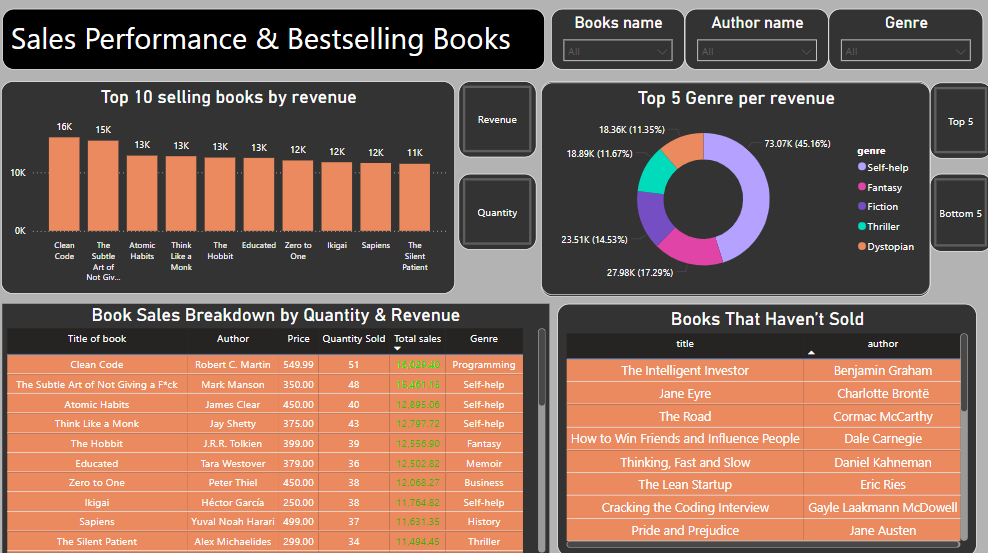

Layout of this report page (visuals, bound fields, positions):
{"tool":"powerbi","page":{"name":"Page 2","canvas":[1280,720],"ordinal":1},"visuals":[{"type":"textbox","box":[20.8,24.6,690.3,77.5],"z":0},{"type":"tableEx","title":"Book Sales Breakdown by Quantity & Revenue","fields":{"Values":["Books.title","Books.author","Sum(Books.price)","Sum(Sales.quantity)","Sum(Sales.total_amount)","Books.genre"]},"box":[20.8,399.1,696,321.5],"z":2000},{"type":"columnChart","title":"Top 10 selling books by revenue","fields":{"Category":["Books.title"],"Y":["Sum(Sales.total_amount)"]},"box":[19.8,116.6,578,270.4],"z":3000},{"type":"tableEx","title":"Books That Haven’t Sold","fields":{"Values":["Books.title","Books.author"]},"box":[726.2,399.1,533.3,321.5],"z":4000},{"type":"slicer","title":"Books name","fields":{"Values":["Books.title"]},"box":[718.7,24.6,170.2,77.5],"z":5000},{"type":"slicer","title":"Author name","fields":{"Values":["Books.author"]},"box":[888.9,24.6,183.5,77.5],"z":6000},{"type":"slicer","title":"Genre","fields":{"Values":["Books.genre"]},"box":[1072.3,24.6,196.7,77.5],"z":7000},{"type":"donutChart","title":"Bottom 5 Genre per revenue","fields":{"Category":["Books.genre"],"Y":["Sum(Sales.total_amount)"]},"box":[705.4,115.4,495.5,274.2],"z":7001},{"type":"actionButton","box":[1201,117.3,79.4,96.5],"z":7002},{"type":"actionButton","box":[1200.6,233.2,79.4,99.2],"z":7003},{"type":"donutChart","title":"Top 5 Genre per revenue","fields":{"Category":["Books.genre"],"Y":["Sum(Sales.total_amount)"]},"box":[705.4,117.3,495.5,270.5],"z":7004},{"type":"actionButton","box":[600.3,233.2,99.2,96.7],"z":7005},{"type":"actionButton","box":[600.3,116.6,99.2,96.7],"z":7006}]}

Visuals, with their boxes in screenshot pixels (x1, y1, x2, y2), scaled from the page's 1280x720 canvas onto the 988x553 screenshot:
textbox: BBox(16, 19, 549, 78)
"Book Sales Breakdown by Quantity & Revenue" tableEx: BBox(16, 307, 553, 552)
"Top 10 selling books by revenue" columnChart: BBox(15, 90, 461, 297)
"Books That Haven’t Sold" tableEx: BBox(561, 307, 972, 552)
"Books name" slicer: BBox(555, 19, 686, 78)
"Author name" slicer: BBox(686, 19, 828, 78)
"Genre" slicer: BBox(828, 19, 980, 78)
"Bottom 5 Genre per revenue" donutChart: BBox(544, 89, 927, 299)
actionButton: BBox(927, 90, 987, 164)
actionButton: BBox(927, 179, 987, 255)
"Top 5 Genre per revenue" donutChart: BBox(544, 90, 927, 298)
actionButton: BBox(463, 179, 540, 253)
actionButton: BBox(463, 90, 540, 164)
